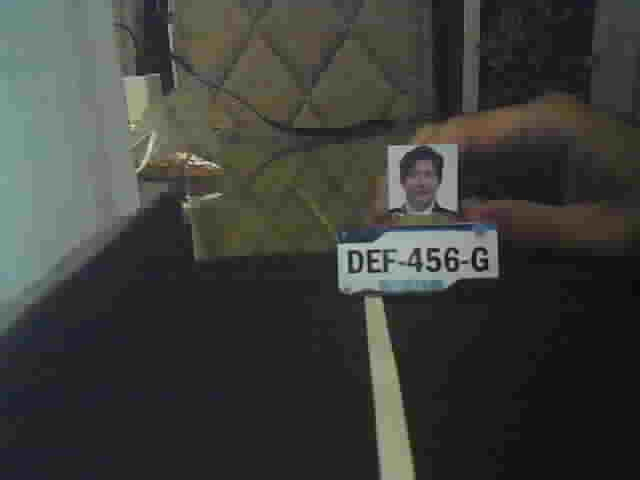PLACA: (334, 221, 502, 297)
ROSTRO: (387, 144, 455, 213)
